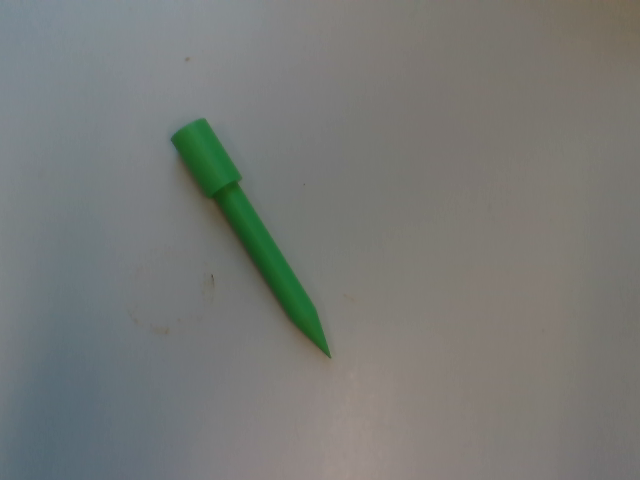Probe: (168, 113, 336, 367)
